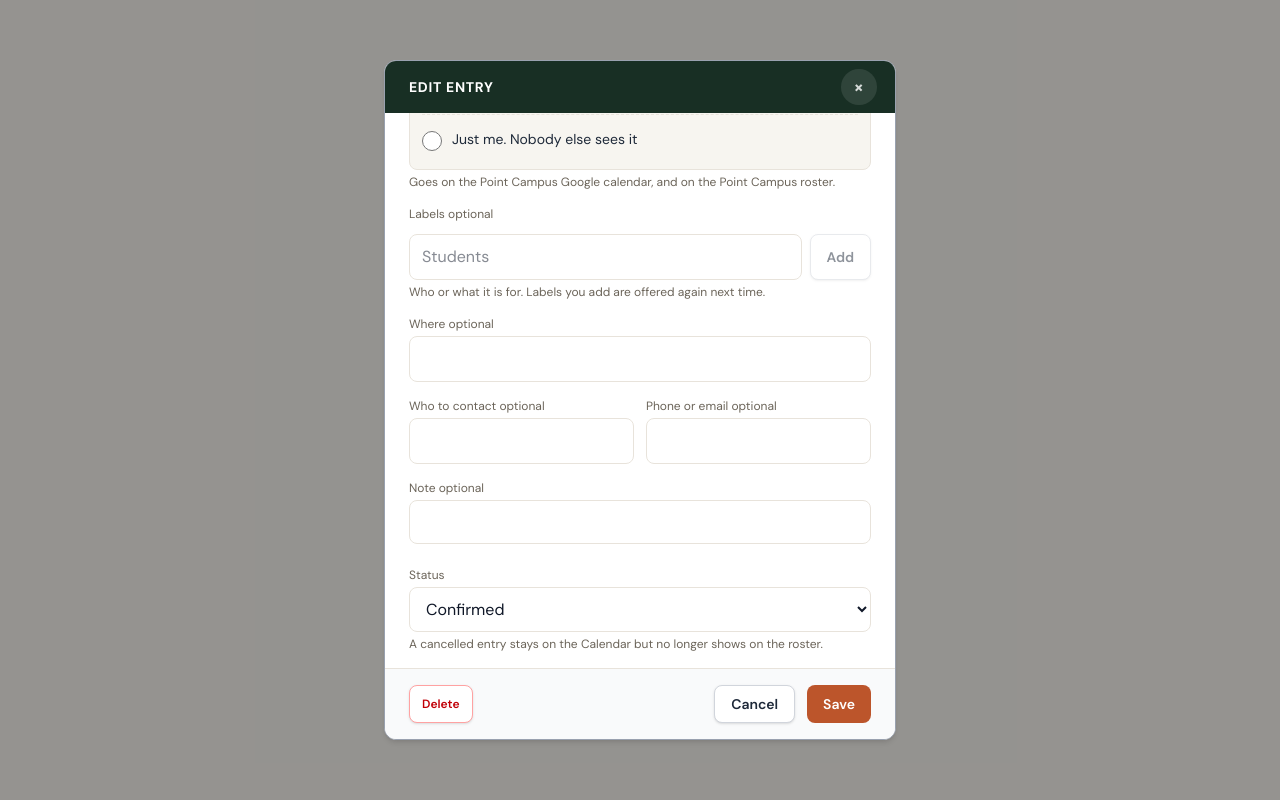
Scenario: taking out one that is not theirs to change › gives the real reason
The width and height of the screenshot is (1280, 800).
(page scrolled)
Click the button "Delete" at (441,704), box [409, 685, 473, 723]
(page scrolled)
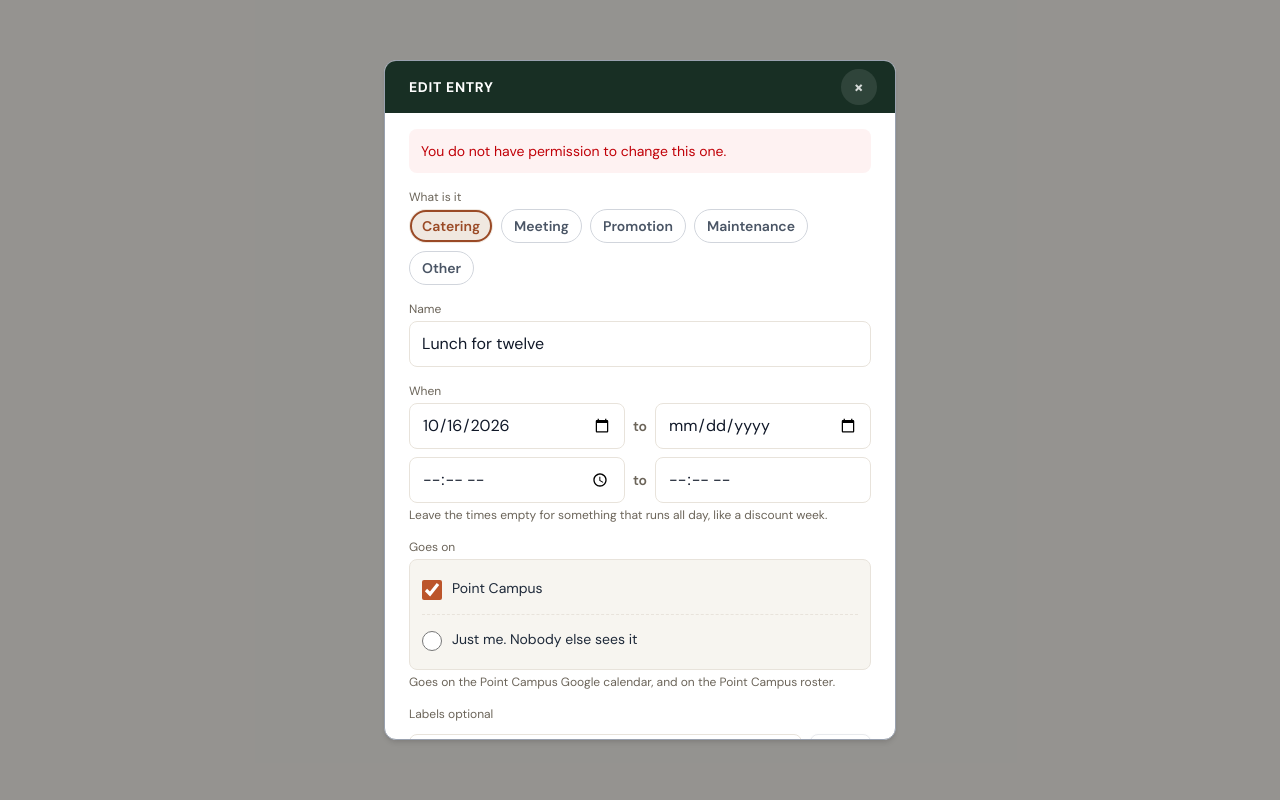
Check: the text "You do not have permission to change this one." is shown, box [409, 129, 871, 173]
